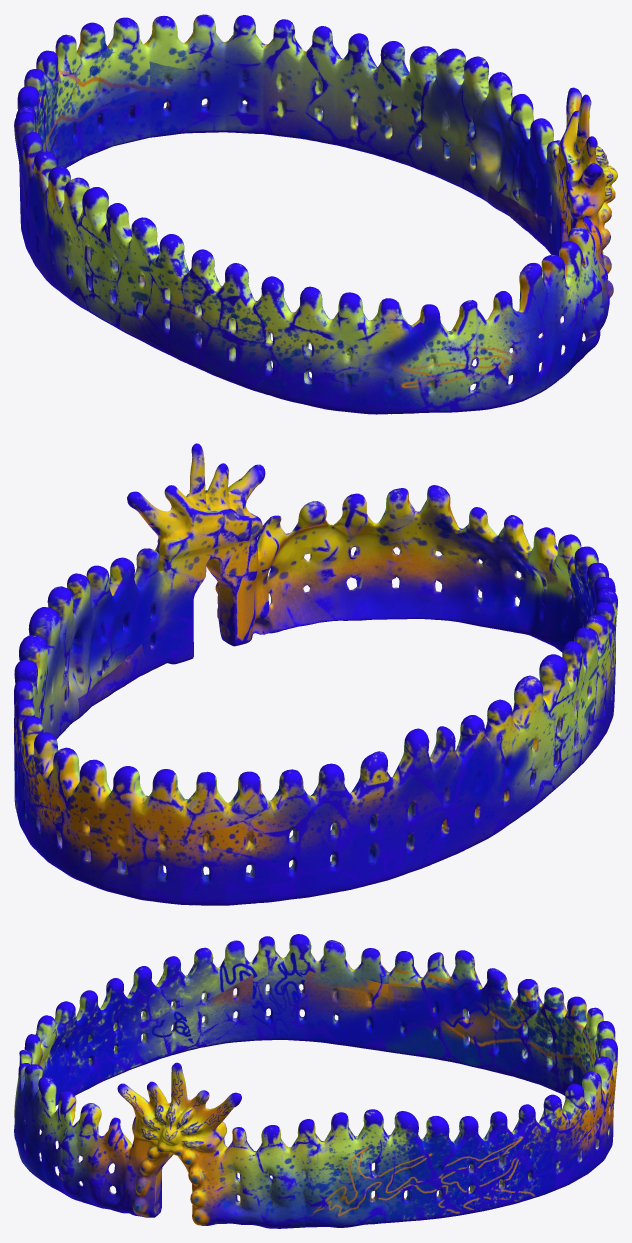
Rendered from shr-fence.glb.
3 renders of one model, top to bottom at view 1: azimuth 30°, elevation 25°; view 2: azimuth 150°, elevation 25°; view 3: azimuth 270°, elevation 25°, orthographic. The views are drawn at different scales.
Visible parts, largest first — view 1: geometry_0; view 2: geometry_0; view 3: geometry_0.
Part boxes in pixels (x1,y1,x2,y2): geometry_0: (14, 14, 617, 414); geometry_0: (14, 443, 617, 905); geometry_0: (14, 934, 617, 1228).
Size of the model in its own units: 0.7186 by 0.2977 by 1.
Materials: 1 (1 with a texture image).
